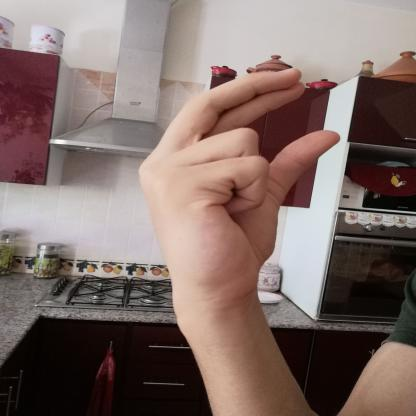DHELL: (125, 61, 349, 309)
